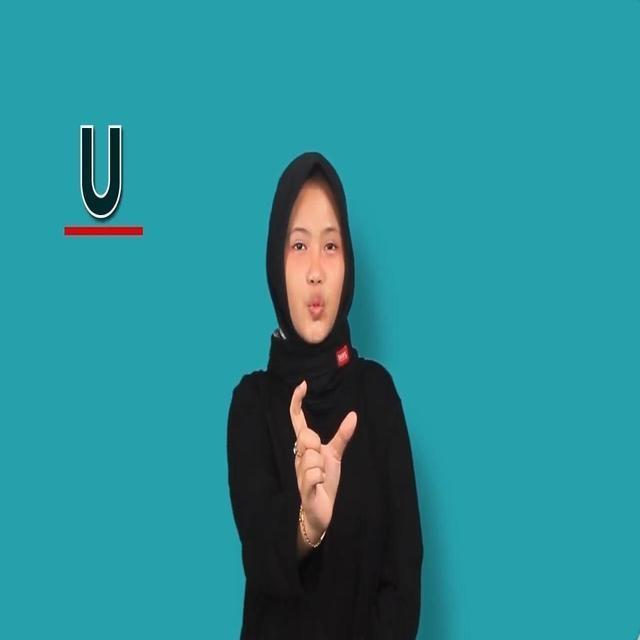U: (284, 373, 361, 472)
